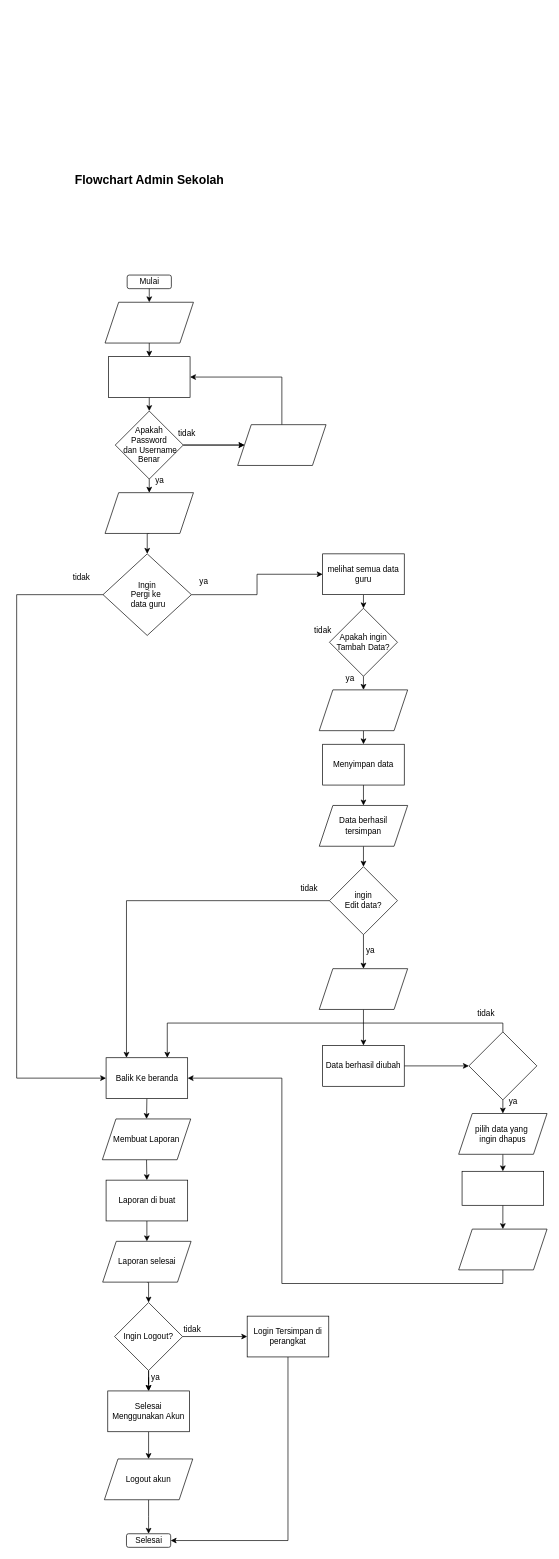
Some shapes in this 559 by 1559 pixel diagram are drawn without their labels. Each missing label, with the centre of its shape:
"Data berhasil di hapus" belongs at (x=502, y=1249).
"ingin Hapus data?" belongs at (x=502, y=1065).
"Input data yang harus di isi" belongs at (x=363, y=710).
"Input Ulang Username dan Passowrd" belongs at (x=281, y=444).
"input username dan passoword yang sudah terdaftar" belongs at (x=148, y=322).
"Masuk Ke beranda" belongs at (x=148, y=512).
"Menghapus data" belongs at (x=502, y=1188).
"Sistem Melakukan Validasi" belongs at (x=149, y=376).
"Ubah data yang dipilih" belongs at (x=363, y=988).
